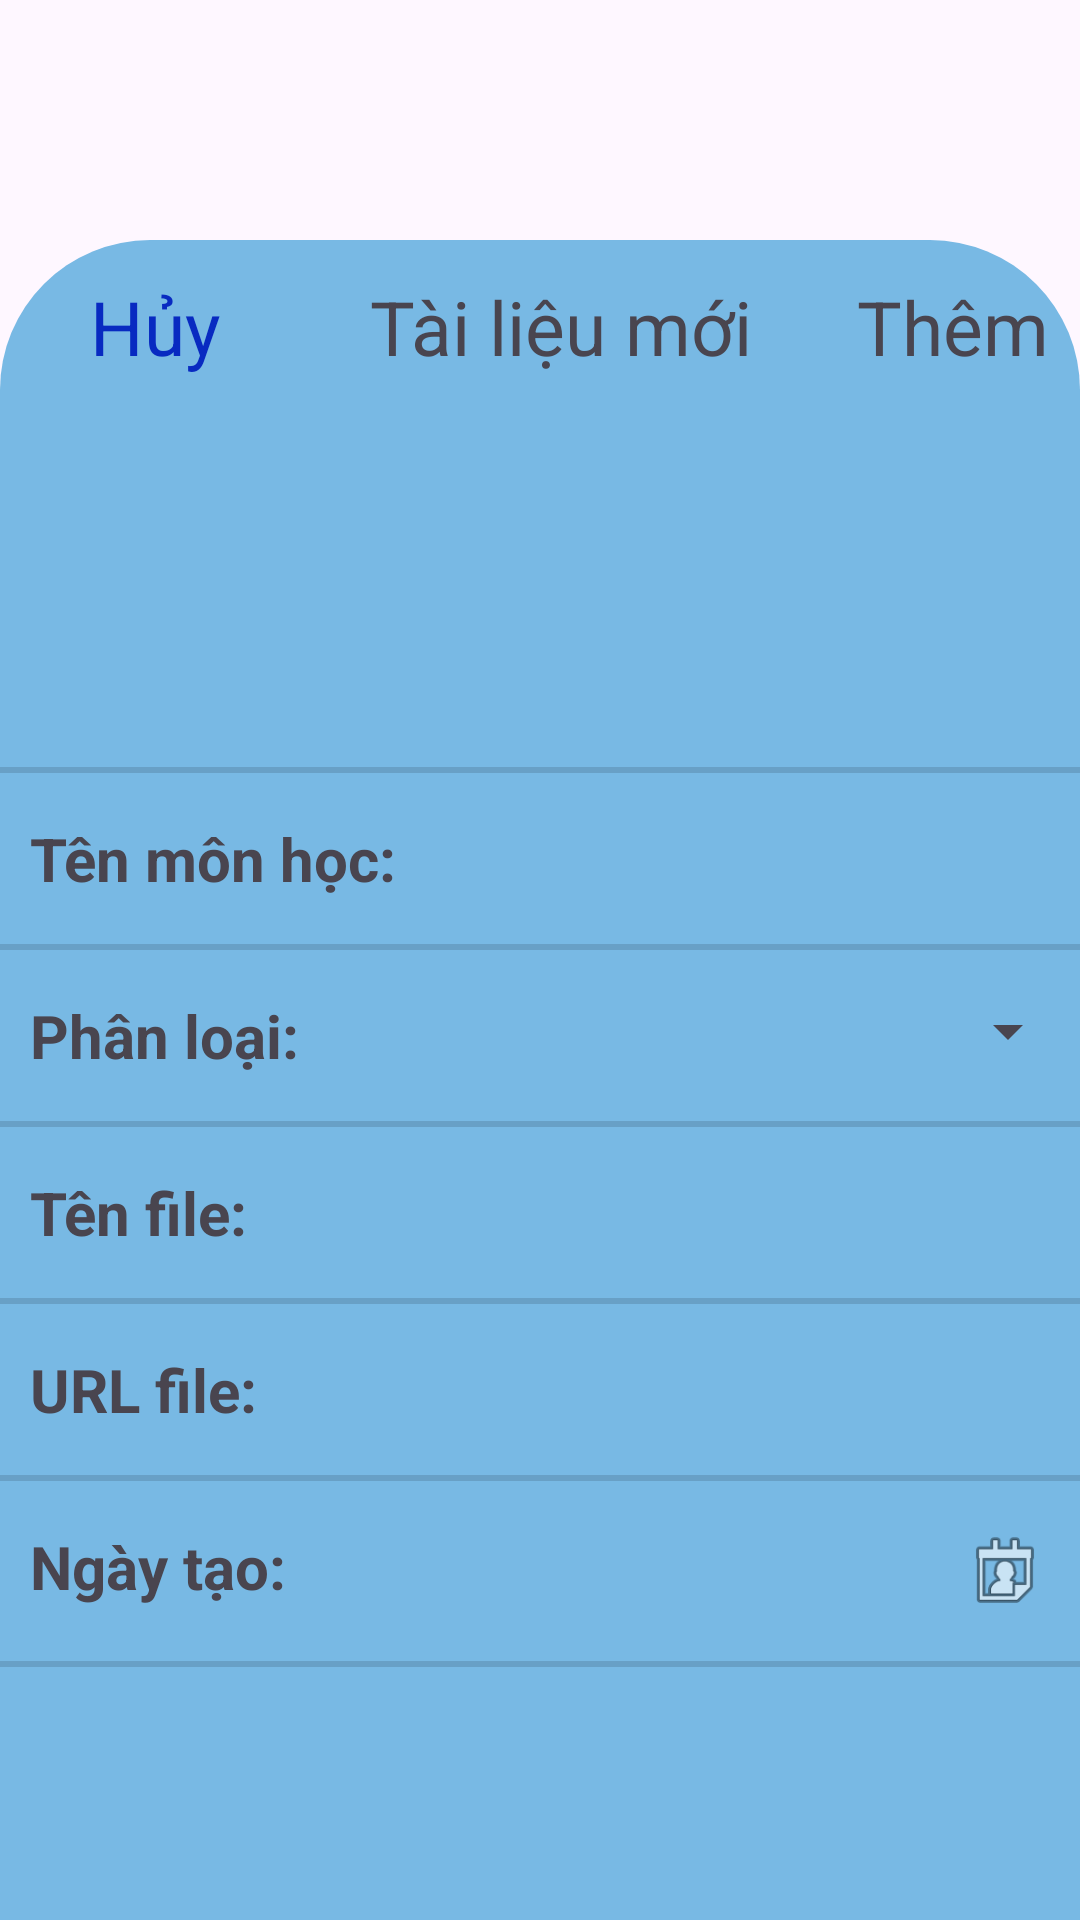

Screen size 1080 × 1920. Icon name, then its box in pixels as (x1, y1, x2, y2):
calendar: (976, 1537, 1034, 1603)
